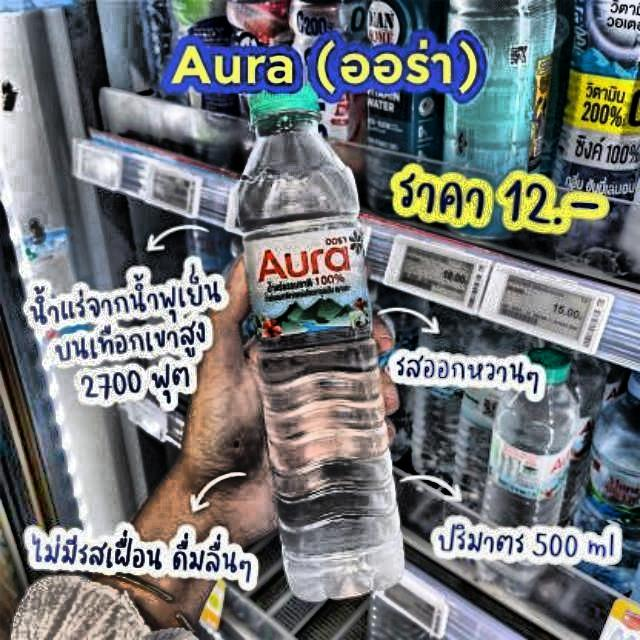Bottles: (232, 84, 411, 604)
